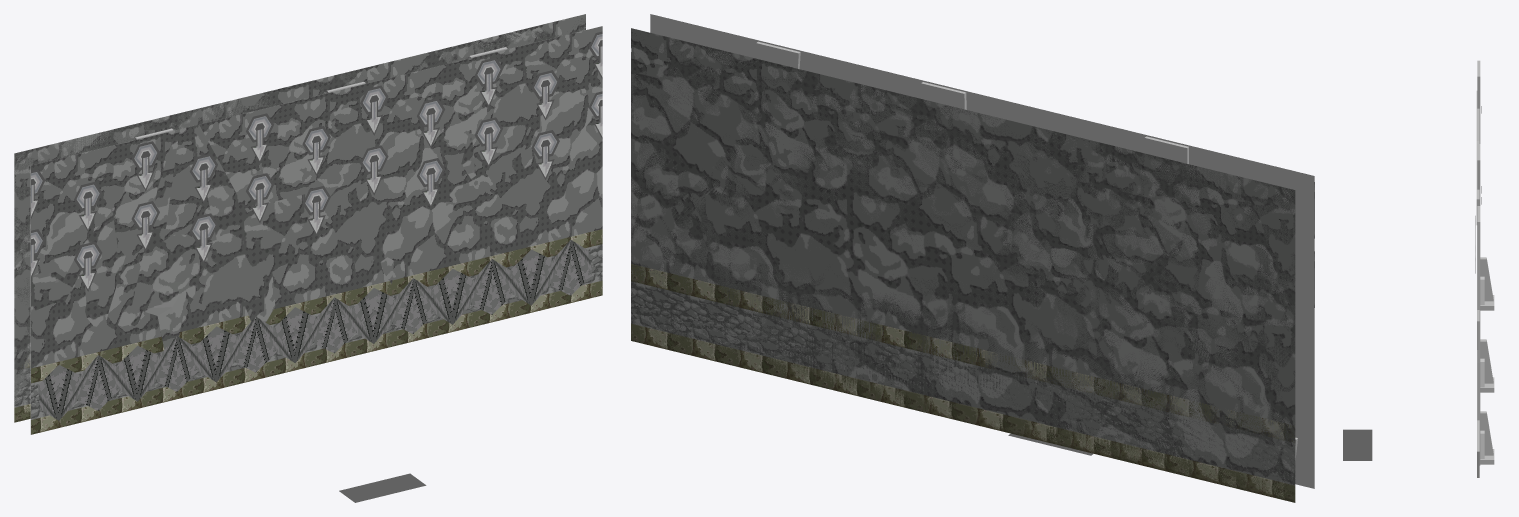
Rendered from stg_00_3_bake_split.dae.
3 views of the same model, side by side, from view 1: azimuth 30°, elevation 25°; view 2: azimuth 150°, elevation 25°; view 3: azimuth 270°, elevation 25° (orthographic). The views are drawn at different scales.
Visible parts, largest first — view 1: polySurface1275_q00143_part0, polySurface1270_q00142, polySurface1268_q00117_part0, polySurface1275_q00143_part1, jon_6_part0, jon_1_part0, jon_2_part0, pPlane450_q00000; view 2: jon_2_part0, jon_6_part0, jon_1_part0, jon_6_part1, pPlane449_q00211, jon_0_part0, jon_2_part1, jon_1_part1, polySurface1254_q00200, polySurface1253_q00199, polySurface1255_q00201; view 3: pPlane450_q00000, polySurface1253_q00199, pCube24_q00207, pCube24_q00210, pCube24_q00204, polySurface1251_q00193, polySurface1255_q00201, polySurface1250_q00198, polySurface1254_q00200, polySurface1252_q00197.
Boxes of the visible parts, x1,y1,x2,y2 form: polySurface1275_q00143_part0: (31,26,602,419); polySurface1270_q00142: (37,240,591,420); polySurface1268_q00117_part0: (31,115,602,349); polySurface1275_q00143_part1: (31,229,602,434); jon_6_part0: (14,14,585,407); jon_1_part0: (14,15,585,406); jon_2_part0: (14,29,552,379); pPlane450_q00000: (339,473,426,502); jon_2_part0: (631,29,1295,485); jon_6_part0: (631,28,1295,484); jon_1_part0: (631,29,1295,467); jon_6_part1: (631,264,1295,502); pPlane449_q00211: (650,14,1314,488); jon_0_part0: (631,30,1244,420); jon_2_part1: (632,324,1295,502); jon_1_part1: (631,324,1188,460); polySurface1254_q00200: (921,82,966,109); polySurface1253_q00199: (755,41,800,68); polySurface1255_q00201: (1144,136,1188,163); pPlane450_q00000: (1343,429,1372,460); polySurface1253_q00199: (1477,206,1480,465); pCube24_q00207: (1480,411,1493,455); pCube24_q00210: (1480,257,1493,301); pCube24_q00204: (1480,339,1493,383); polySurface1251_q00193: (1476,91,1479,224); polySurface1255_q00201: (1477,60,1480,143); polySurface1250_q00198: (1477,225,1479,477); polySurface1254_q00200: (1477,144,1480,205); polySurface1252_q00197: (1477,228,1479,349).
Bounding box in the file's own units: 40 × 23 × 11.
